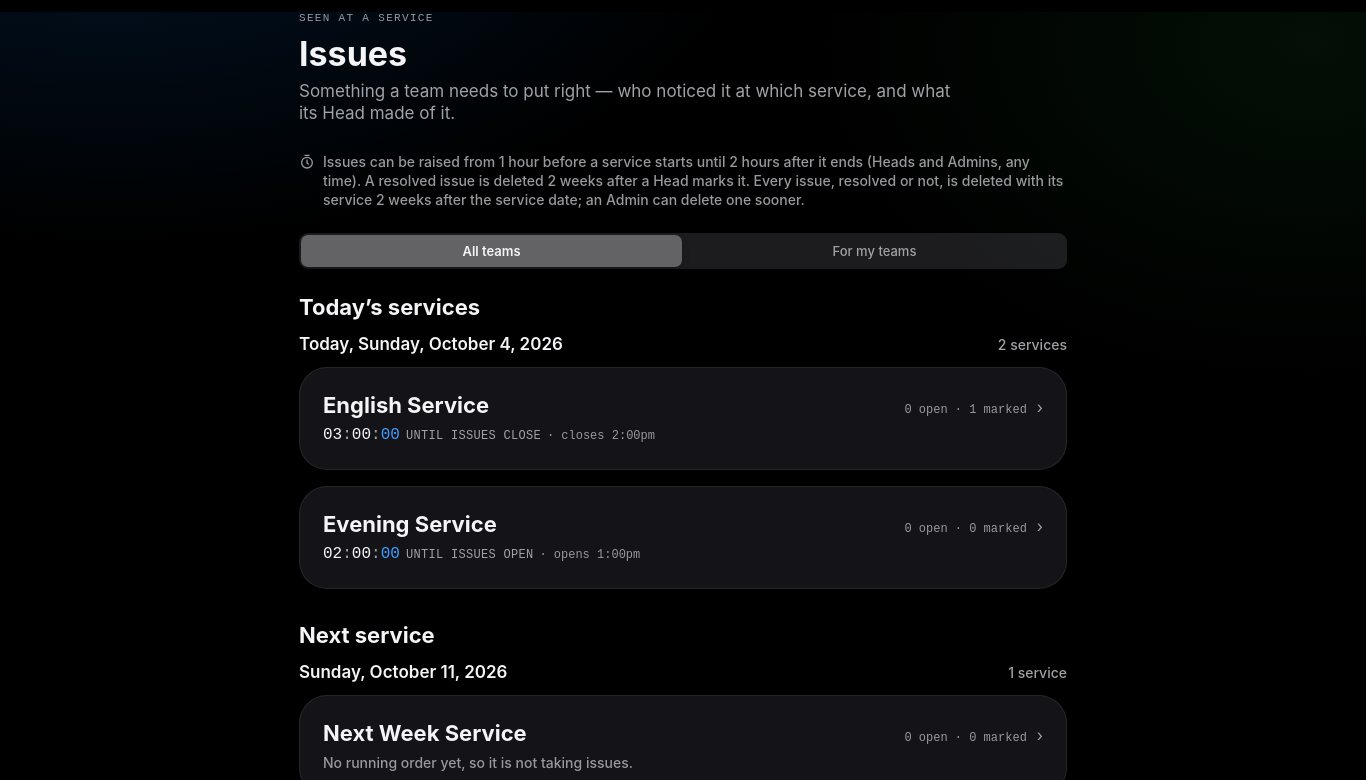
Test: the Issues page › shows the verdict, who gave it and their remarks
The width and height of the screenshot is (1366, 780).
What coordinates should you click on to do the following:
click the button "English Service 0 open · 1 marked ›"
I would click on:
 (406, 405)
Its box is [323,391,1043,419].
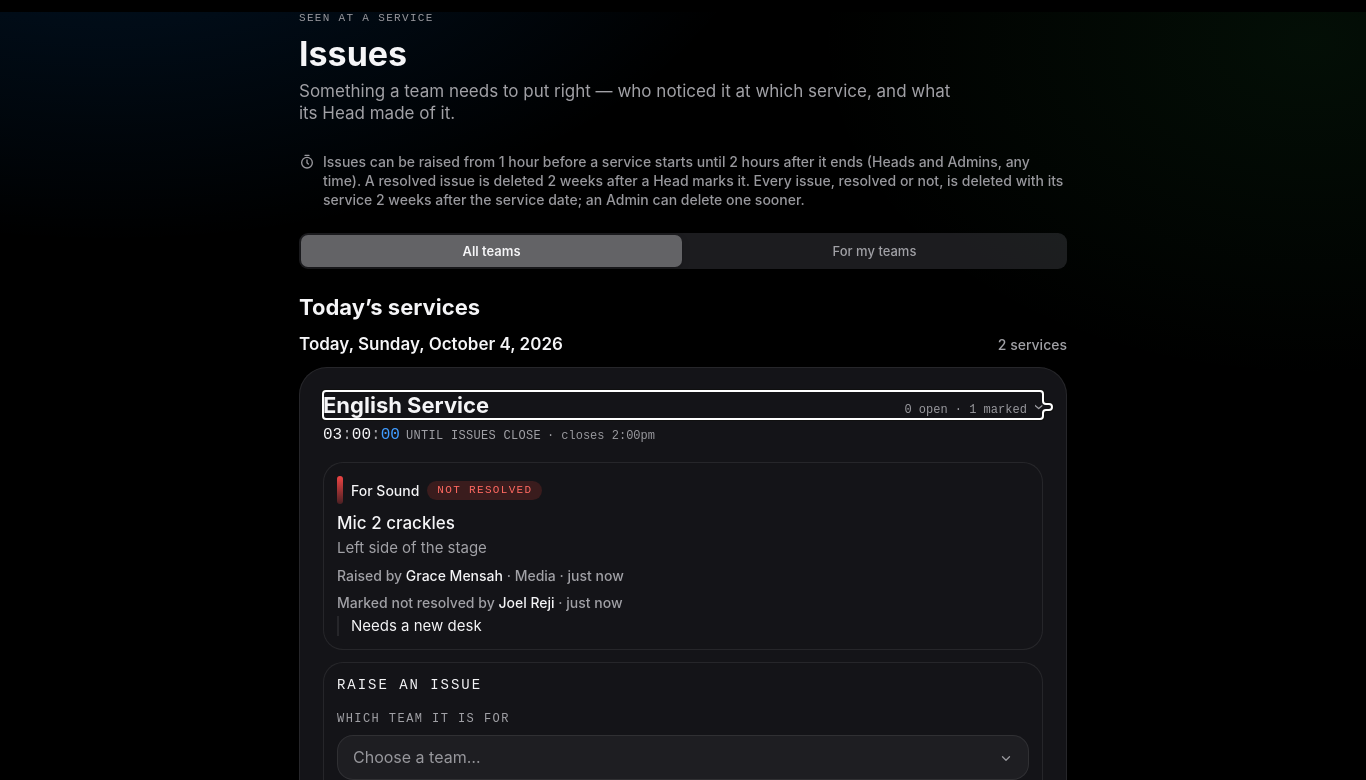
Check: the text "Not resolved" is shown, box [427,480,542,500]
Check: the text "Marked not resolved by Joel Reji · just now" is shown, box [337,594,623,611]
Check: the text "Needs a new desk" is shown, box [337,616,1029,636]
